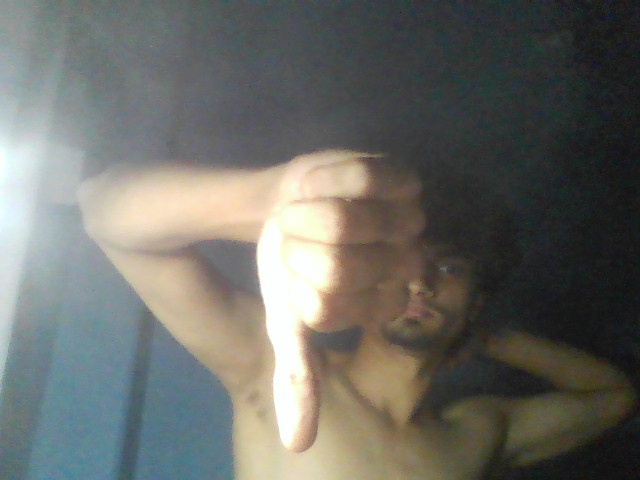ThumbsDown: (250, 144, 431, 452)
